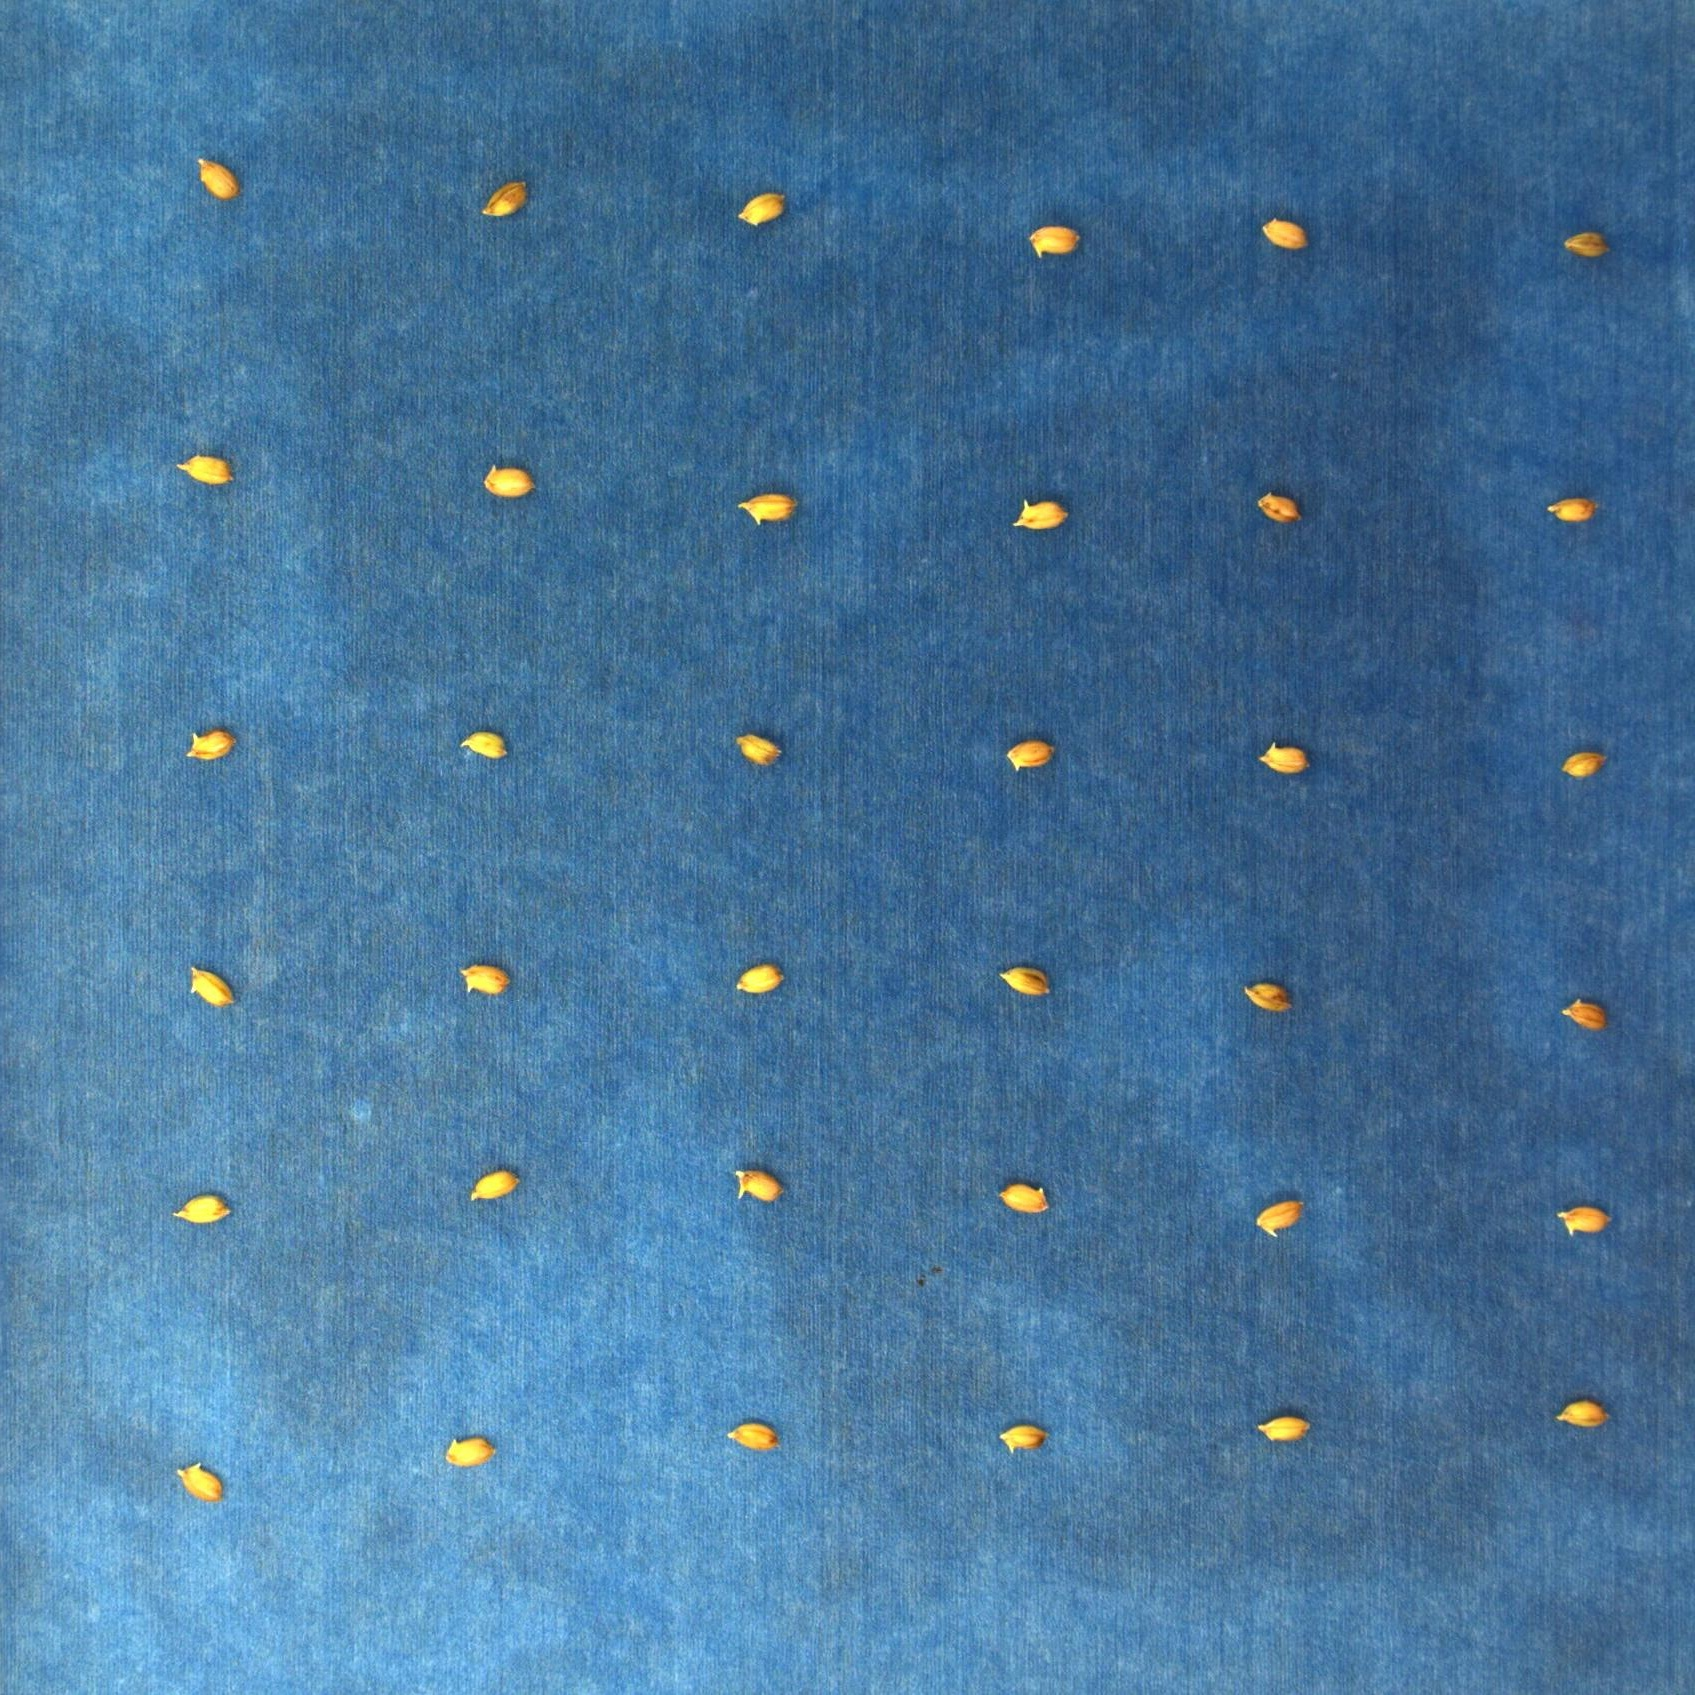not sprout: (1546, 1385, 1617, 1436), (185, 959, 244, 1018), (168, 447, 244, 490), (731, 484, 796, 534), (1236, 970, 1302, 1018), (1006, 490, 1073, 539), (726, 1153, 789, 1203), (175, 725, 251, 765), (726, 955, 796, 998), (990, 1172, 1059, 1215), (189, 154, 245, 206), (473, 174, 526, 230), (733, 723, 787, 776), (168, 1189, 237, 1229), (466, 1161, 525, 1208), (1000, 959, 1062, 1003), (1246, 1183, 1307, 1226), (1562, 1195, 1619, 1240), (433, 1430, 504, 1465), (453, 722, 512, 764), (463, 951, 515, 998), (1253, 733, 1315, 771), (989, 1414, 1055, 1450), (1541, 484, 1600, 525), (1003, 730, 1060, 770), (730, 182, 782, 225), (477, 461, 536, 500), (175, 1461, 227, 1503), (1560, 992, 1611, 1034), (723, 1416, 785, 1450), (1024, 217, 1077, 256), (1558, 744, 1611, 781), (1253, 213, 1307, 247), (1257, 1409, 1316, 1440), (1246, 483, 1302, 515), (1560, 220, 1607, 251)
